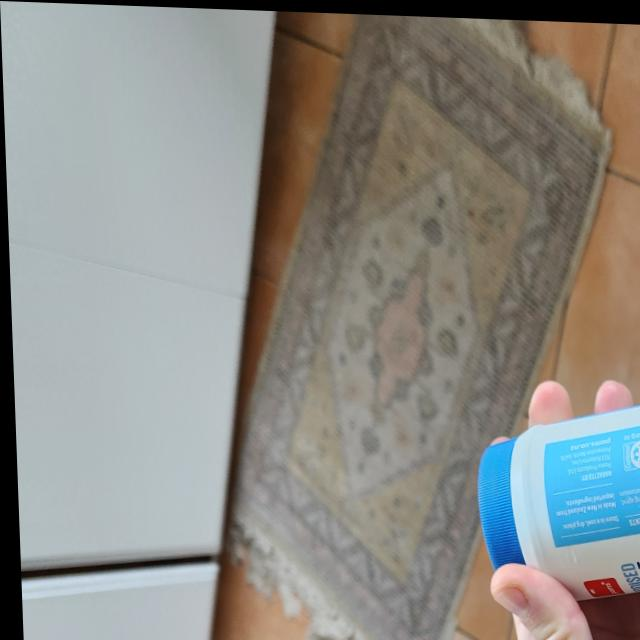salt: (471, 358, 640, 607)
